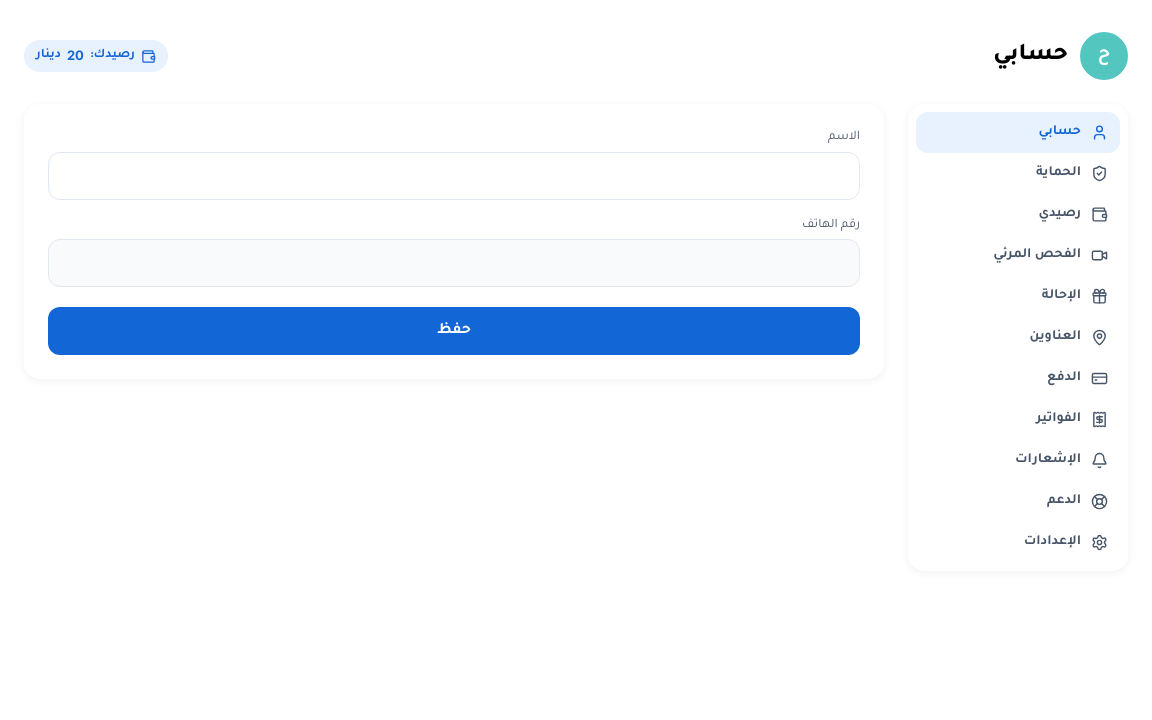
Scenario: Account › shows the wallet balance and ledger under the "رصيدي" tab
Click the tab "رصيدي": (1018, 214) x1=916 y1=194 x2=1120 y2=235
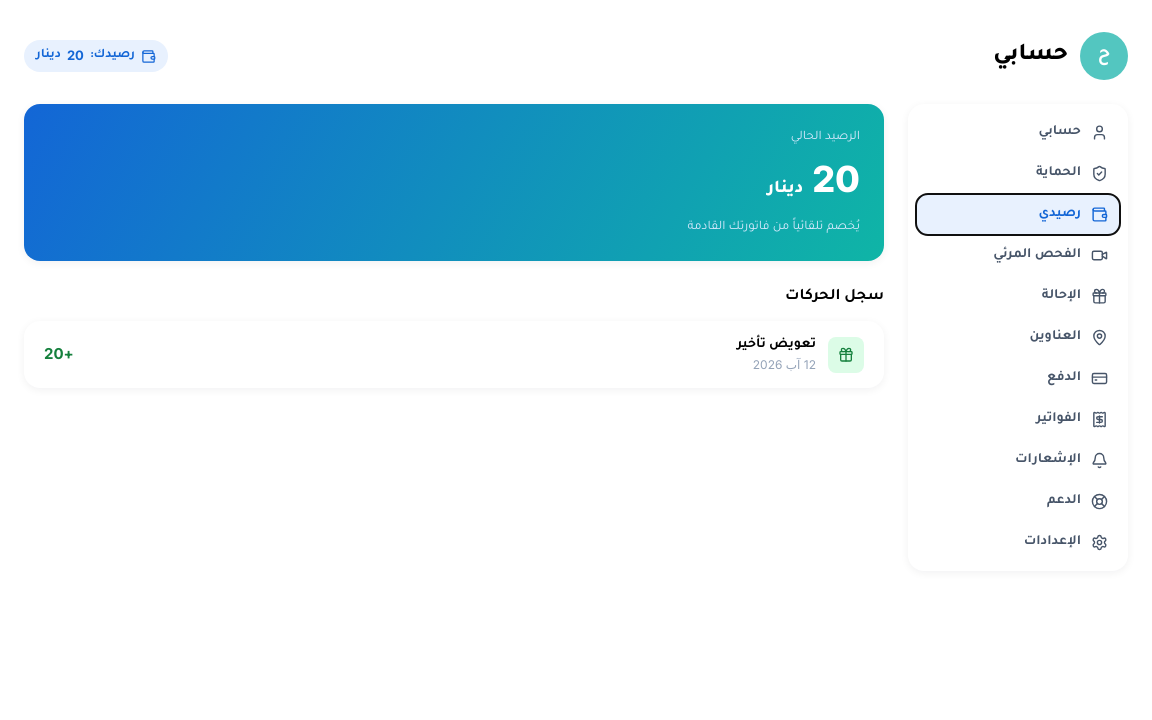
Now the text "الرصيد الحالي" is shown, box x1=791 y1=131 x2=860 y2=144
Now the text "تعويض تأخير" is shown, box x1=737 y1=338 x2=816 y2=352
